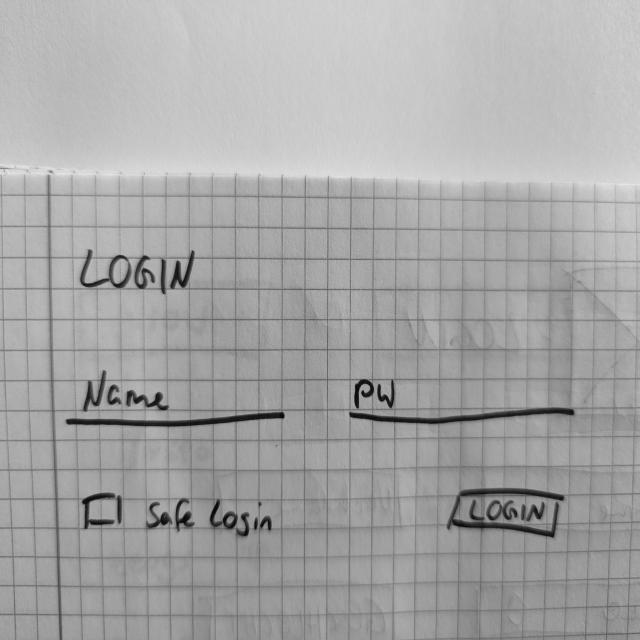button: (447, 485, 565, 541)
checkbox: (79, 488, 278, 540)
input: (64, 367, 290, 431), (349, 377, 578, 430)
label: (75, 245, 200, 296)
